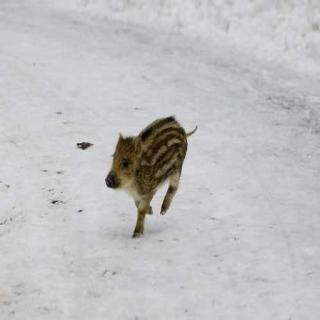Pig: (93, 111, 216, 231)
